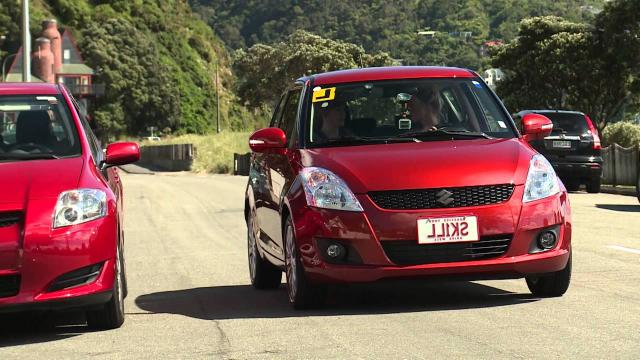Rego: (417, 215, 478, 244)
